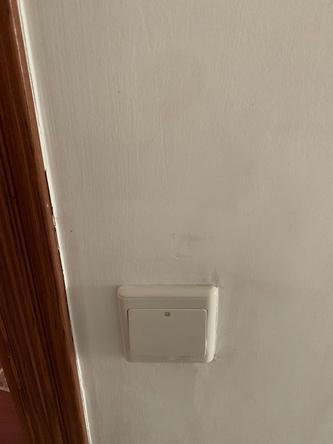switch: (127, 305, 206, 359)
